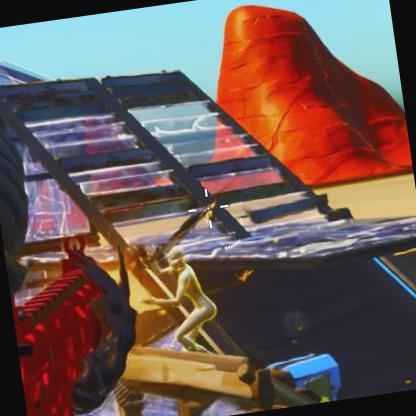person: (161, 247, 216, 356)
